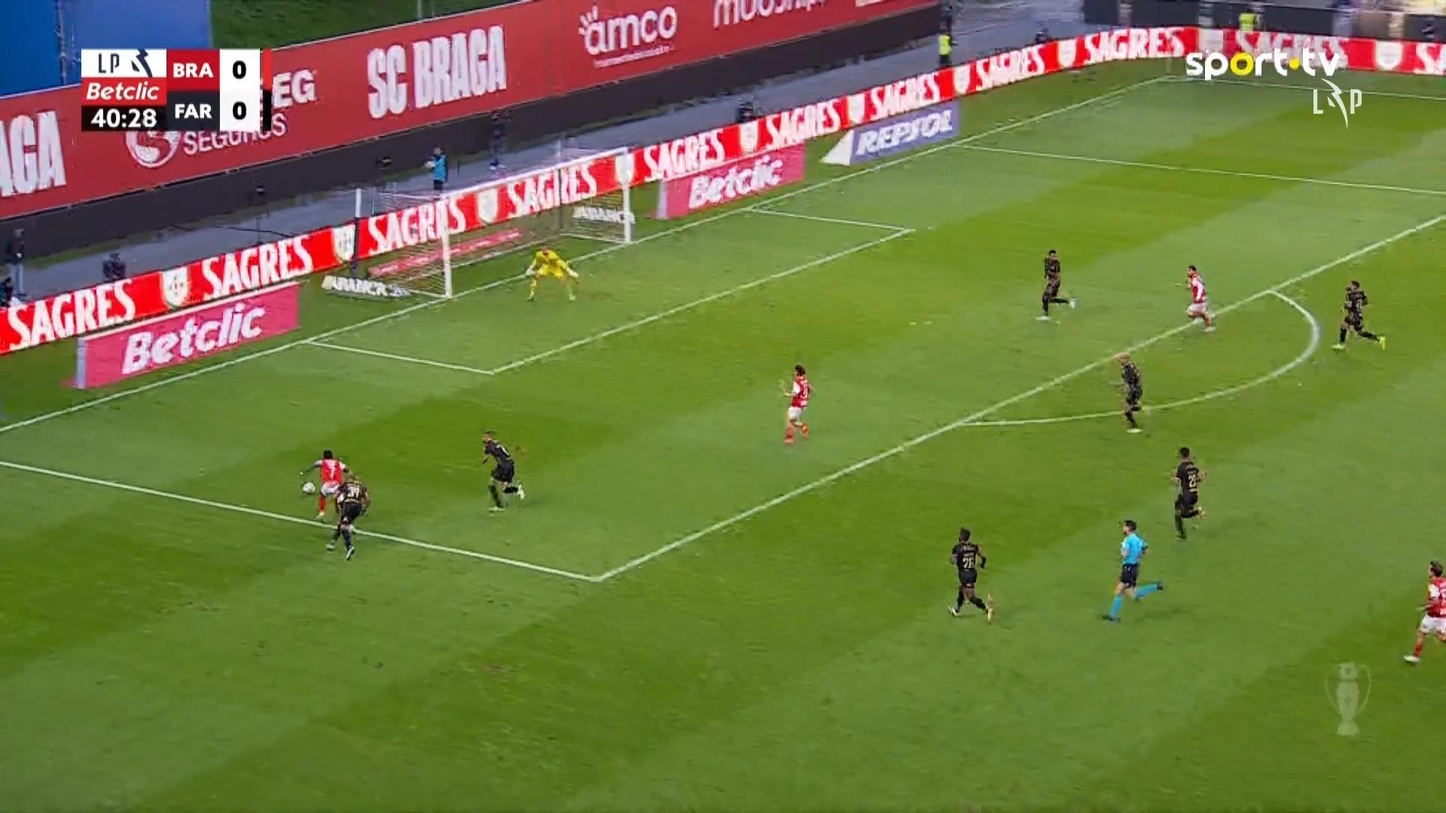ball: (301, 481, 315, 495)
goalkeeper: (523, 245, 579, 303)
player: (947, 526, 994, 624), (1402, 558, 1444, 664), (324, 470, 370, 560), (1330, 279, 1386, 352), (477, 429, 526, 512), (297, 448, 349, 521), (1170, 446, 1207, 540), (1036, 248, 1077, 321), (1110, 351, 1145, 433), (779, 363, 814, 444), (1178, 263, 1217, 332)
referee: (1102, 518, 1164, 622)
